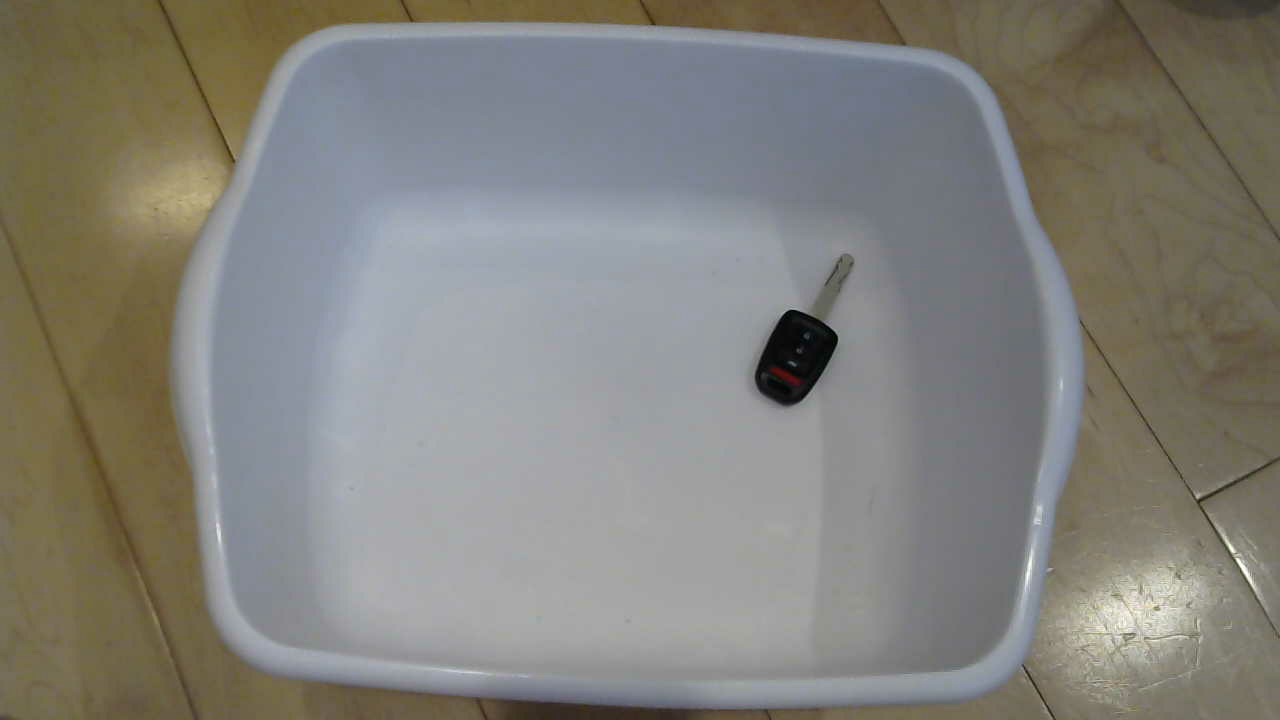key: (723, 252, 877, 426)
